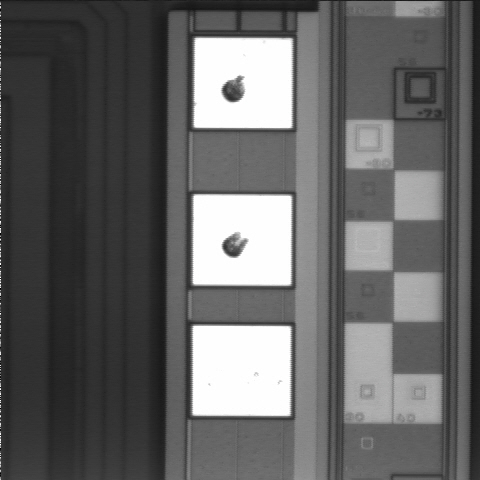pad: (194, 38, 292, 128), (193, 195, 291, 285), (193, 326, 291, 416)
